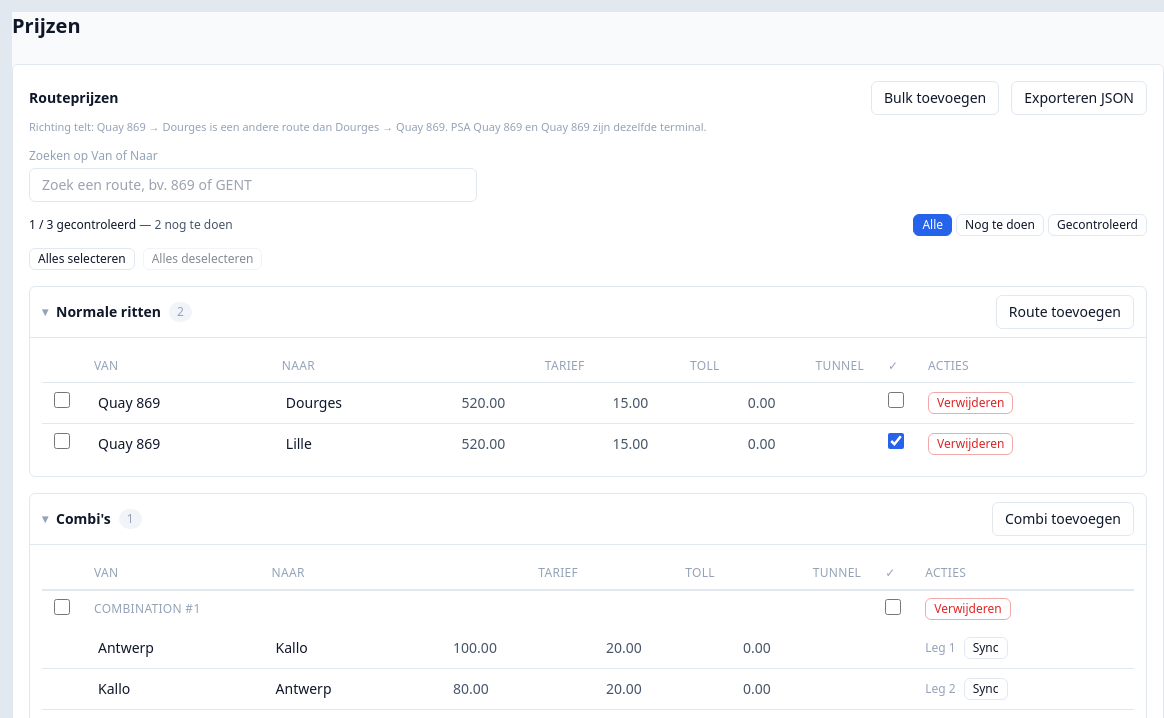
selecting › selects everything the list shows
Expected: the button "Lille" is shown, [282,432,434,456]
Click the button "Alles selecteren" at (82, 258), box [29,248,135,270]
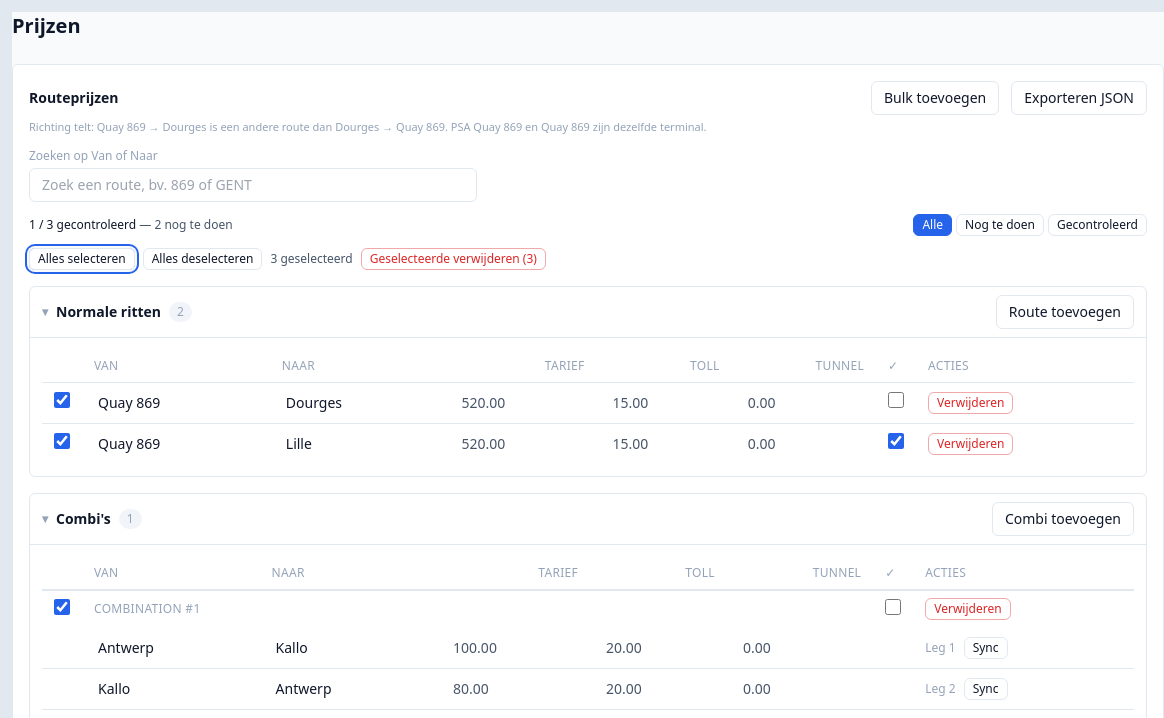
Expected: the button "Geselecteerde verwijderen (3)" is shown, [361,248,546,270]
Expected: the checkbox named "Selecteren:" is checked, [54,392,70,408]
